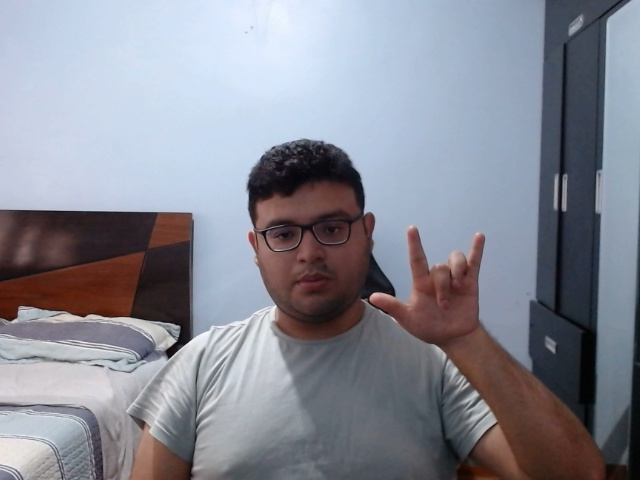I love you: (368, 220, 492, 349)
